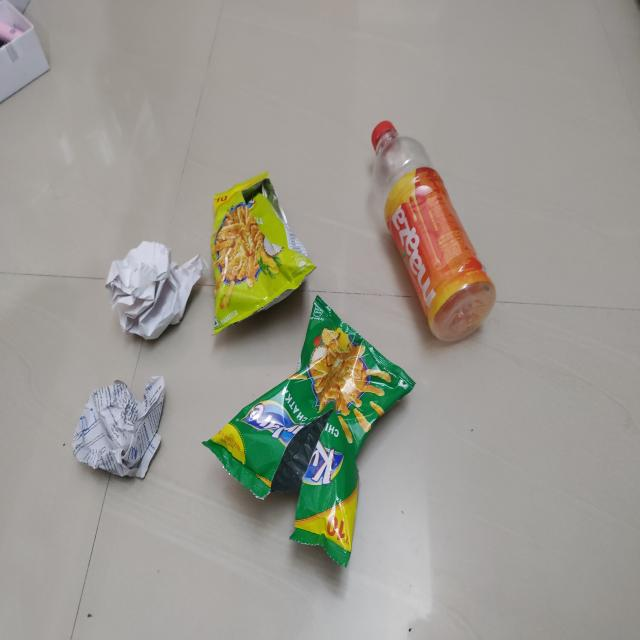dry: (238, 290, 396, 564), (370, 106, 548, 342), (184, 166, 310, 328), (88, 217, 200, 349), (73, 350, 180, 480)
